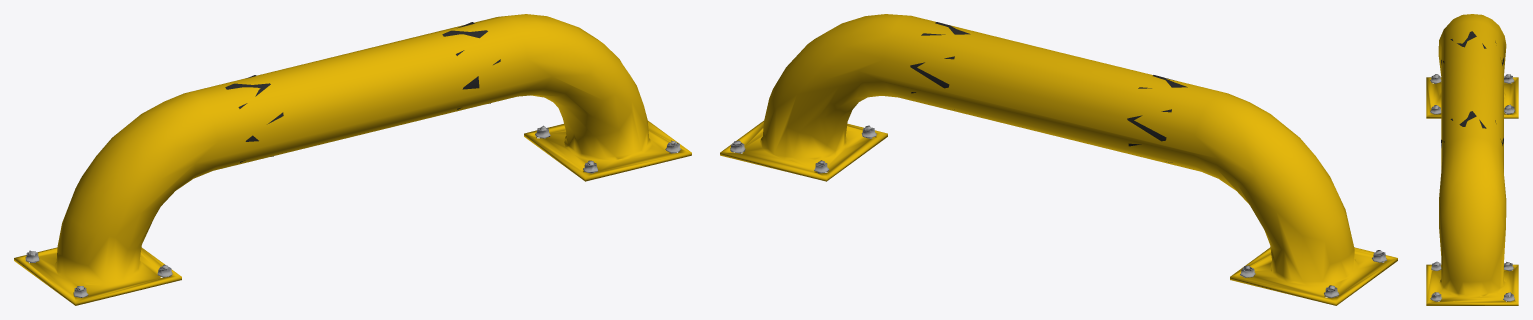
Rendered from machineguard.glb.
The picture shows the model from 3 angles, left to right: view 1: azimuth 30°, elevation 25°; view 2: azimuth 150°, elevation 25°; view 3: azimuth 270°, elevation 25°; orthographic projection. The views are drawn at different scales.
Parts seen in each view (by area): view 1: body; view 2: body; view 3: body.
Boxes of the visible parts, <box> form: body: <box>14,14,691,305</box>; body: <box>720,14,1397,305</box>; body: <box>1426,14,1518,305</box>.
Size of the model in its own units: 0.9756 by 0.2309 by 0.1686.
Materials: 3 (1 with a texture image).
